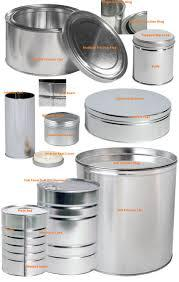Tin: (3, 0, 179, 282)
